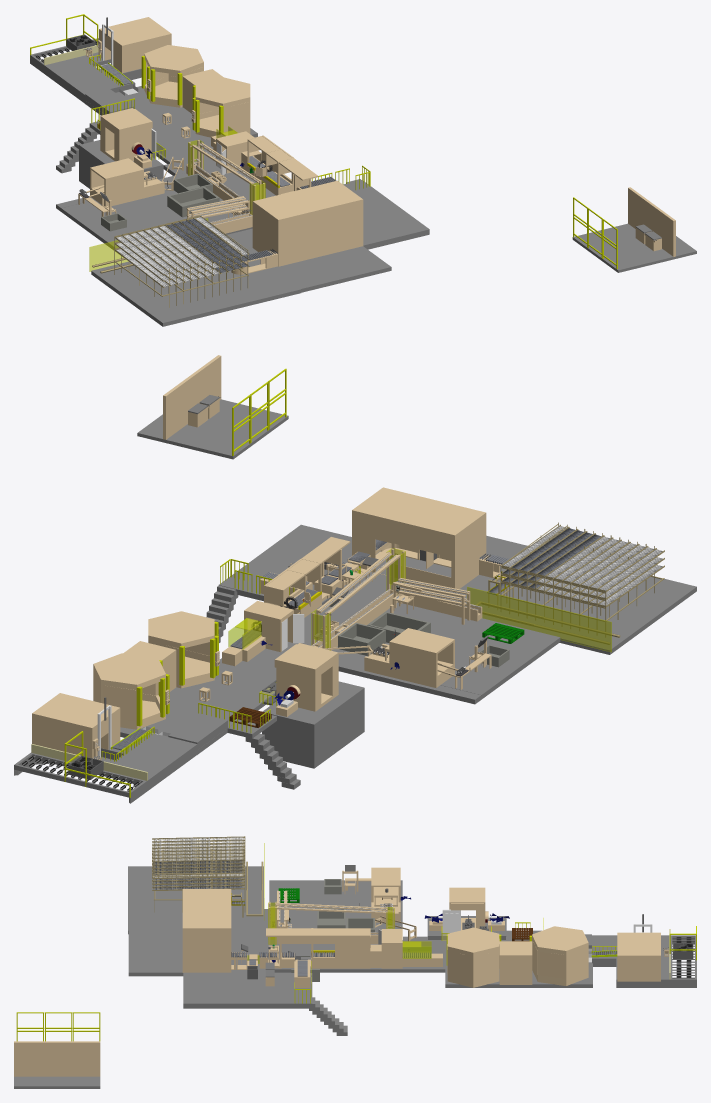
File: finishing-line-split.glb
3 views of the same model, one above another, from view 1: azimuth 30°, elevation 25°; view 2: azimuth 150°, elevation 25°; view 3: azimuth 270°, elevation 25° (orthographic). The views are drawn at different scales.
Parts seen in each view (by area): view 1: Layout, MC_spray, MC_lineRepair, MC_grinding, MC_hsb06, MC_hsb05, MC_baritori, MC_junbiki, MC_hanten, MC_final, MC_qc1; view 2: Layout, MC_grinding, MC_spray, MC_lineRepair, MC_hsb05, MC_baritori, MC_hsb06, MC_hanten, MC_junbiki, MC_qc1, MC_final, MC_qc2; view 3: Layout, MC_spray, MC_lineRepair, MC_junbiki, MC_hsb05, MC_hsb06, MC_baritori, MC_grinding, MC_hanten, MC_final, MC_qc2, MC_qc1.
Part boxes in pixels (x1,y1,x2,y2): Layout: (30, 14, 617, 326); MC_spray: (252, 180, 363, 266); MC_lineRepair: (572, 187, 696, 272); MC_grinding: (79, 108, 165, 188); MC_hsb06: (191, 77, 250, 137); MC_hsb05: (141, 45, 203, 107); MC_baritori: (90, 17, 171, 73); MC_junbiki: (156, 215, 249, 287); MC_hanten: (213, 126, 268, 176); MC_final: (247, 135, 293, 195); MC_qc1: (274, 157, 322, 194); Layout: (14, 368, 696, 803); MC_grinding: (259, 643, 364, 768); MC_spray: (352, 487, 486, 588); MC_lineRepair: (137, 355, 288, 459); MC_hsb05: (93, 653, 169, 729); MC_baritori: (32, 693, 125, 759); MC_hsb06: (148, 611, 219, 688); MC_hanten: (228, 585, 304, 661); MC_junbiki: (496, 523, 613, 609); MC_qc1: (289, 549, 363, 606); MC_final: (264, 559, 321, 617); MC_qc2: (307, 551, 378, 588); Layout: (16, 836, 696, 1041); MC_spray: (182, 889, 236, 972); MC_lineRepair: (14, 1041, 100, 1088); MC_junbiki: (152, 854, 245, 912); MC_hsb05: (529, 926, 588, 985); MC_hsb06: (446, 927, 501, 987); MC_baritori: (617, 914, 670, 981); MC_grinding: (427, 887, 506, 940); MC_hanten: (369, 928, 431, 968); MC_final: (311, 928, 370, 968); MC_qc2: (231, 944, 278, 979); MC_qc1: (268, 928, 324, 981).
Bounding box in the file's own units: 332 × 87.68 × 434.
